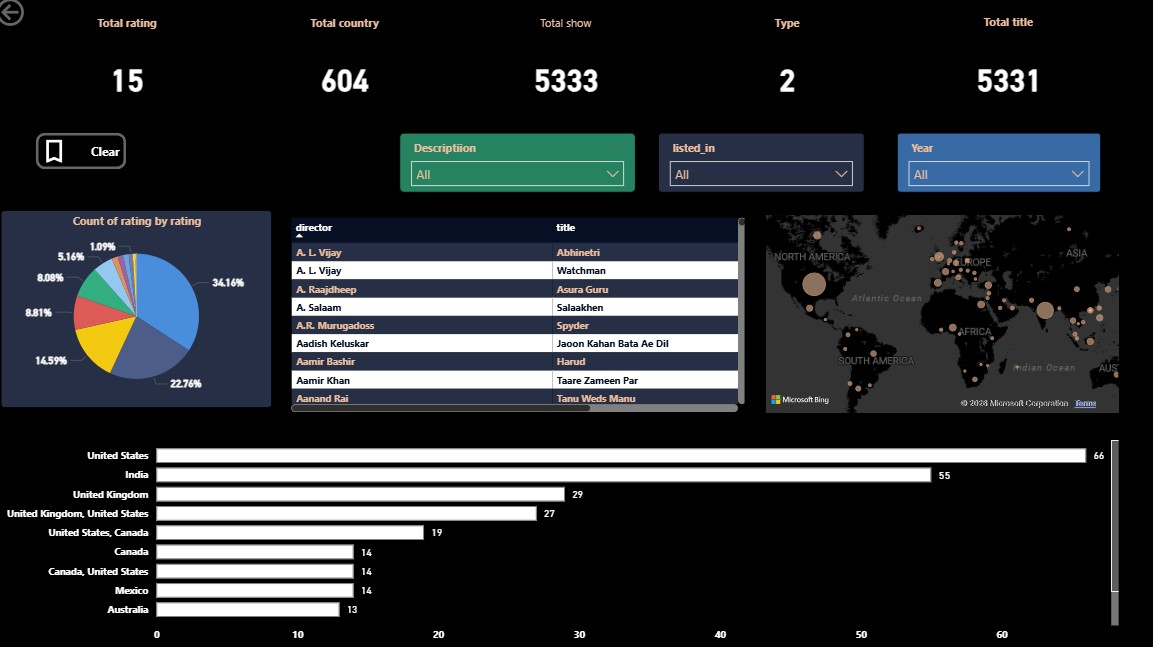

Layout of this report page (visuals, bound fields, positions):
{"tool":"powerbi","page":{"name":"Page 1","canvas":[1280,720],"ordinal":0},"visuals":[{"type":"card","title":"Total rating","fields":{"Values":["Count(NETFLI~1.rating)"]},"box":[35.7,20.6,223.7,124.9],"z":0},{"type":"card","title":"Total title","fields":{"Values":["Count(NETFLI~1.title)"]},"box":[1003.1,20.6,223.7,124.9],"z":1000},{"type":"card","title":"Type","fields":{"Values":["Count(NETFLI~1.type)"]},"box":[760.2,20.6,223.7,124.9],"z":2000},{"type":"card","title":"Total show","fields":{"Values":["Count(NETFLI~1.show_id)"]},"box":[517.3,20.6,223.7,124.9],"z":3000},{"type":"card","title":"Total country","fields":{"Values":["Count(NETFLI~1.country)"]},"box":[274.4,20.6,223.7,124.9],"z":4000},{"type":"pieChart","fields":{"Y":["CountNonNull(NETFLI~1.rating)"],"Category":["NETFLI~1.rating"]},"box":[9.6,237.4,297.8,216.8],"z":5000},{"type":"actionButton","box":[0,0,100,40],"z":6000},{"type":"clusteredBarChart","fields":{"Category":["NETFLI~1.country"],"Y":["Count(NETFLI~1.release_year)"]},"box":[9.6,477.5,1232.3,242.9],"z":7000},{"type":"slicer","fields":{"Values":["NETFLI~1.date_added.Variation.Date Hierarchy.Year"]},"box":[993.5,152.3,223.7,65.9],"z":8000},{"type":"slicer","fields":{"Values":["NETFLI~1.listed_in"]},"box":[731.4,152.3,226.4,65.9],"z":9000},{"type":"tableEx","fields":{"Values":["NETFLI~1.director","NETFLI~1.title","NETFLI~1.duration"]},"box":[319.7,237.4,514.6,227.8],"z":10000},{"type":"map","fields":{"Category":["NETFLI~1.country"],"Size":["CountNonNull(NETFLI~1.show_id)"]},"box":[845.3,237.4,396.6,227.8],"z":11000},{"type":"slicer","fields":{"Values":["NETFLI~1.description"]},"box":[447.3,152.3,259.3,65.9],"z":12000},{"type":"actionButton","box":[47.5,152.7,99.4,40],"z":13000}]}

Visuals, with their boxes in screenshot pixels (x1, y1, x2, y2), scaled from the page's 1280x720 canvas onto the 1153x647 screenshot:
"Total rating" card: x1=32, y1=19, x2=234, y2=131
"Total title" card: x1=904, y1=19, x2=1105, y2=131
"Type" card: x1=685, y1=19, x2=886, y2=131
"Total show" card: x1=466, y1=19, x2=667, y2=131
"Total country" card: x1=247, y1=19, x2=449, y2=131
pieChart - CountNonNull(NETFLI~1.rating) x NETFLI~1.rating: x1=9, y1=213, x2=277, y2=408
actionButton: x1=0, y1=0, x2=90, y2=36
clusteredBarChart - NETFLI~1.country x Count(NETFLI~1.release_year): x1=9, y1=429, x2=1119, y2=646
slicer - NETFLI~1.date_added.Variation.Date Hierarchy.Year: x1=895, y1=137, x2=1096, y2=196
slicer - NETFLI~1.listed_in: x1=659, y1=137, x2=863, y2=196
tableEx - NETFLI~1.director x NETFLI~1.title: x1=288, y1=213, x2=752, y2=418
map - NETFLI~1.country x CountNonNull(NETFLI~1.show_id): x1=761, y1=213, x2=1119, y2=418
slicer - NETFLI~1.description: x1=403, y1=137, x2=636, y2=196
actionButton: x1=43, y1=137, x2=132, y2=173
